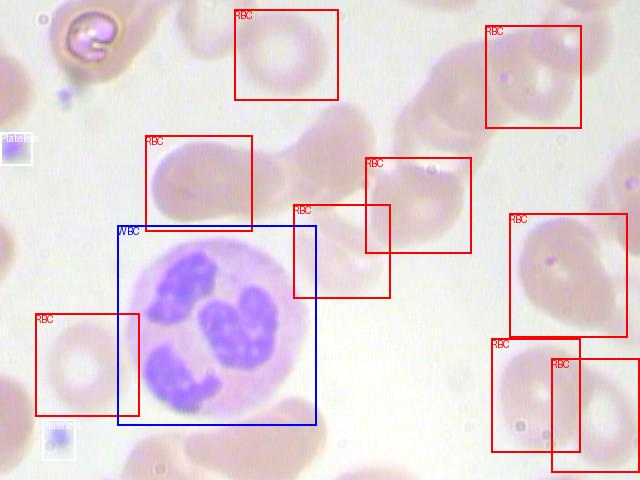Platelets: (42, 419, 75, 460), (0, 132, 32, 165)
RBC: (509, 213, 627, 337), (35, 313, 139, 416), (145, 135, 252, 231), (365, 157, 471, 253), (491, 338, 580, 452), (551, 358, 639, 472), (485, 25, 581, 128), (234, 9, 338, 100), (293, 204, 390, 298)
WBC: (117, 225, 316, 425)
